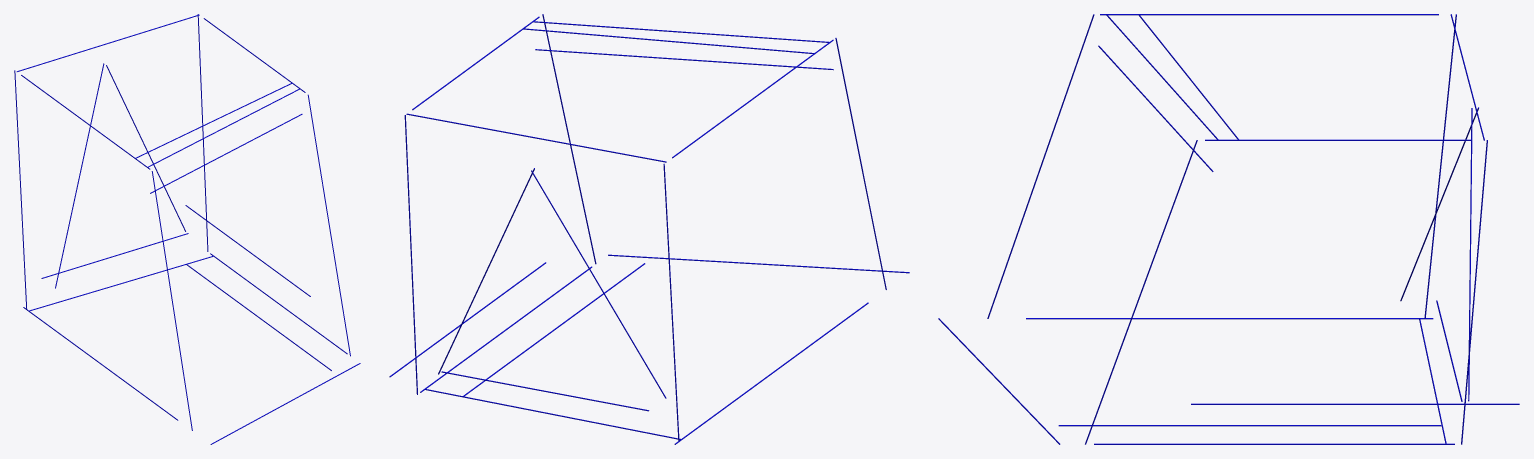
File: corrected_3d_strokes.glb
3 renders of one model, left to right at view 1: azimuth 30°, elevation 25°; view 2: azimuth 150°, elevation 25°; view 3: azimuth 270°, elevation 25°, orthographic. The views are drawn at different scales.
Visible parts, largest first — view 1: world; view 2: world; view 3: world.
Part boxes in pixels (box(x1,y1,x2,y2)): world: box(14, 14, 360, 444); world: box(389, 14, 909, 444); world: box(938, 14, 1519, 444).
Size of the model in its own units: 8.75 by 9.88 by 17.05.
